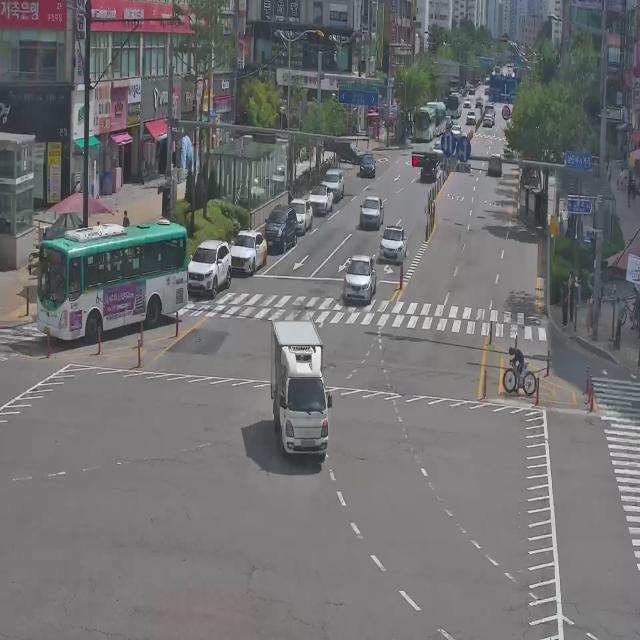Bus: (31, 225, 192, 338), (411, 100, 437, 150), (446, 86, 462, 118), (432, 101, 445, 133)
Car: (187, 238, 232, 298), (342, 254, 377, 304), (229, 230, 267, 274), (264, 204, 297, 254), (379, 225, 407, 264), (323, 160, 345, 201), (289, 198, 313, 235), (308, 183, 334, 216), (359, 196, 384, 230), (419, 150, 440, 185), (360, 152, 376, 176), (451, 120, 464, 139), (466, 107, 475, 128), (482, 112, 492, 130)
Truck: (261, 309, 342, 471)
